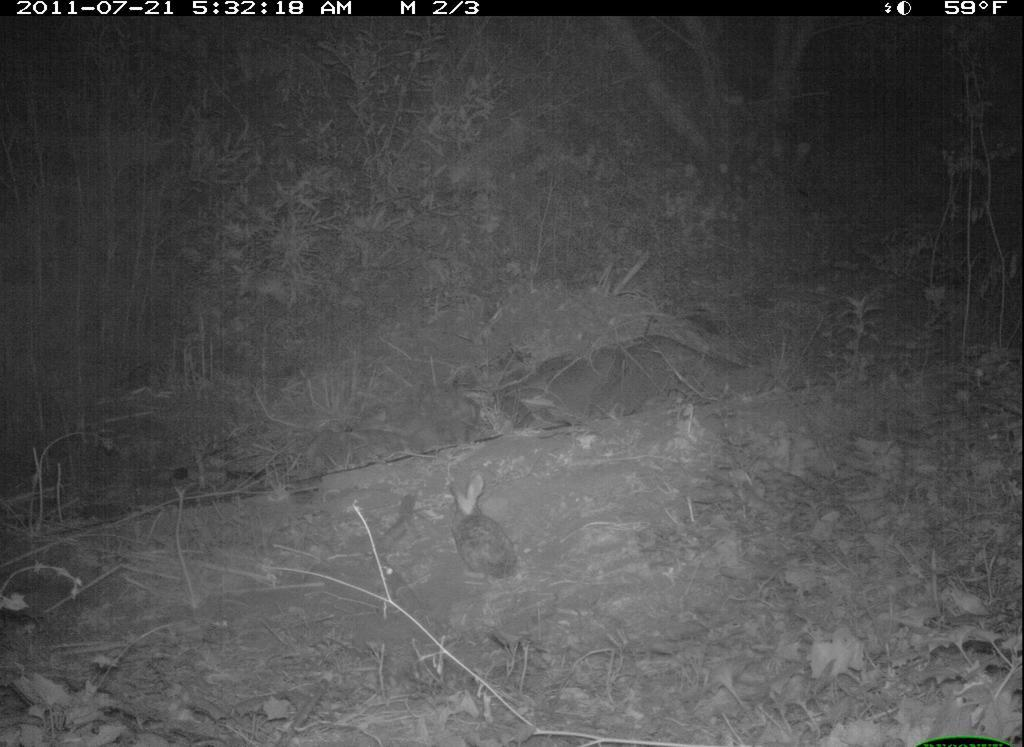rabbit: (443, 467, 522, 582)
